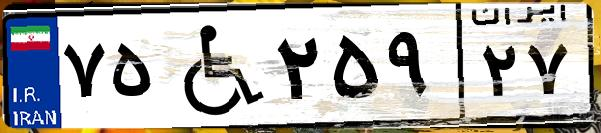2: (270, 28, 330, 110), (475, 38, 525, 113)
5: (330, 28, 385, 110), (110, 28, 158, 98)
7: (57, 26, 110, 100), (525, 38, 570, 115)
9: (385, 28, 445, 110)
ژ (معلولین و جانبازان): (158, 12, 270, 120)
